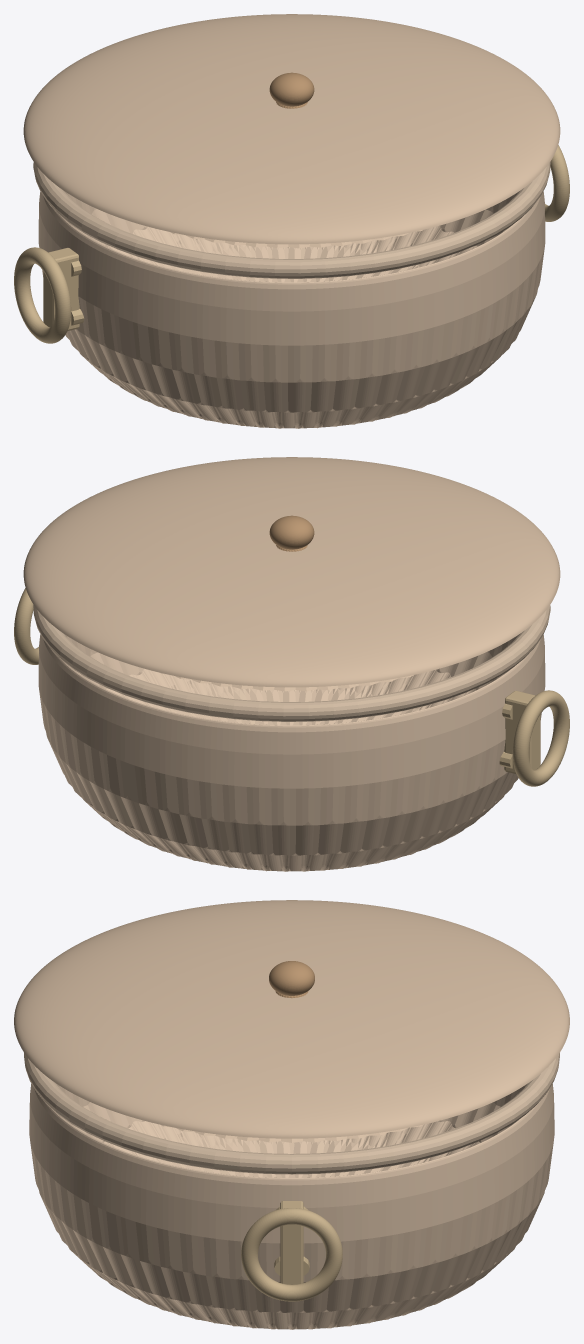
3 views of the same model, one above another, from view 1: azimuth 30°, elevation 25°; view 2: azimuth 150°, elevation 25°; view 3: azimuth 270°, elevation 25° (orthographic). The views are drawn at different scales.
Parts seen in each view (by area): view 1: Pot_Lid, Pot_Body, Pot_Rim, Pot_Handle_2, Pot_Handle_Connector_2, Lid_Knob_Top, Pot_Handle_1, Lid_Rim; view 2: Pot_Lid, Pot_Body, Pot_Rim, Pot_Handle_2, Pot_Handle_Connector_2, Lid_Knob_Top, Pot_Handle_1, Lid_Rim; view 3: Pot_Lid, Pot_Body, Pot_Rim, Pot_Handle_1, Pot_Handle_Connector_1, Lid_Knob_Top, Lid_Rim.
Boxes of the visible parts, x1=… form: Pot_Lid: x1=23, y1=14, x2=560, y2=244; Pot_Body: x1=38, y1=190, x2=545, y2=428; Pot_Rim: x1=33, y1=161, x2=550, y2=278; Pot_Handle_2: x1=14, y1=247, x2=71, y2=343; Pot_Handle_Connector_2: x1=43, y1=247, x2=79, y2=331; Lid_Knob_Top: x1=269, y1=72, x2=314, y2=106; Pot_Handle_1: x1=545, y1=145, x2=569, y2=221; Lid_Rim: x1=157, y1=229, x2=422, y2=248; Pot_Lid: x1=23, y1=457, x2=560, y2=687; Pot_Body: x1=38, y1=633, x2=545, y2=871; Pot_Rim: x1=33, y1=604, x2=550, y2=721; Pot_Handle_2: x1=512, y1=690, x2=569, y2=786; Pot_Handle_Connector_2: x1=504, y1=690, x2=540, y2=774; Lid_Knob_Top: x1=269, y1=515, x2=314, y2=549; Pot_Handle_1: x1=14, y1=588, x2=38, y2=664; Lid_Rim: x1=161, y1=672, x2=426, y2=691; Pot_Lid: x1=14, y1=900, x2=569, y2=1138; Pot_Body: x1=29, y1=1083, x2=554, y2=1329; Pot_Rim: x1=24, y1=1053, x2=559, y2=1174; Pot_Handle_1: x1=241, y1=1208, x2=342, y2=1301; Pot_Handle_Connector_1: x1=280, y1=1201, x2=303, y2=1284; Lid_Knob_Top: x1=269, y1=961, x2=314, y2=995; Lid_Rim: x1=160, y1=1124, x2=423, y2=1142.
Bounding box in the file's own units: 0.8329 × 0.4883 × 0.7548.
